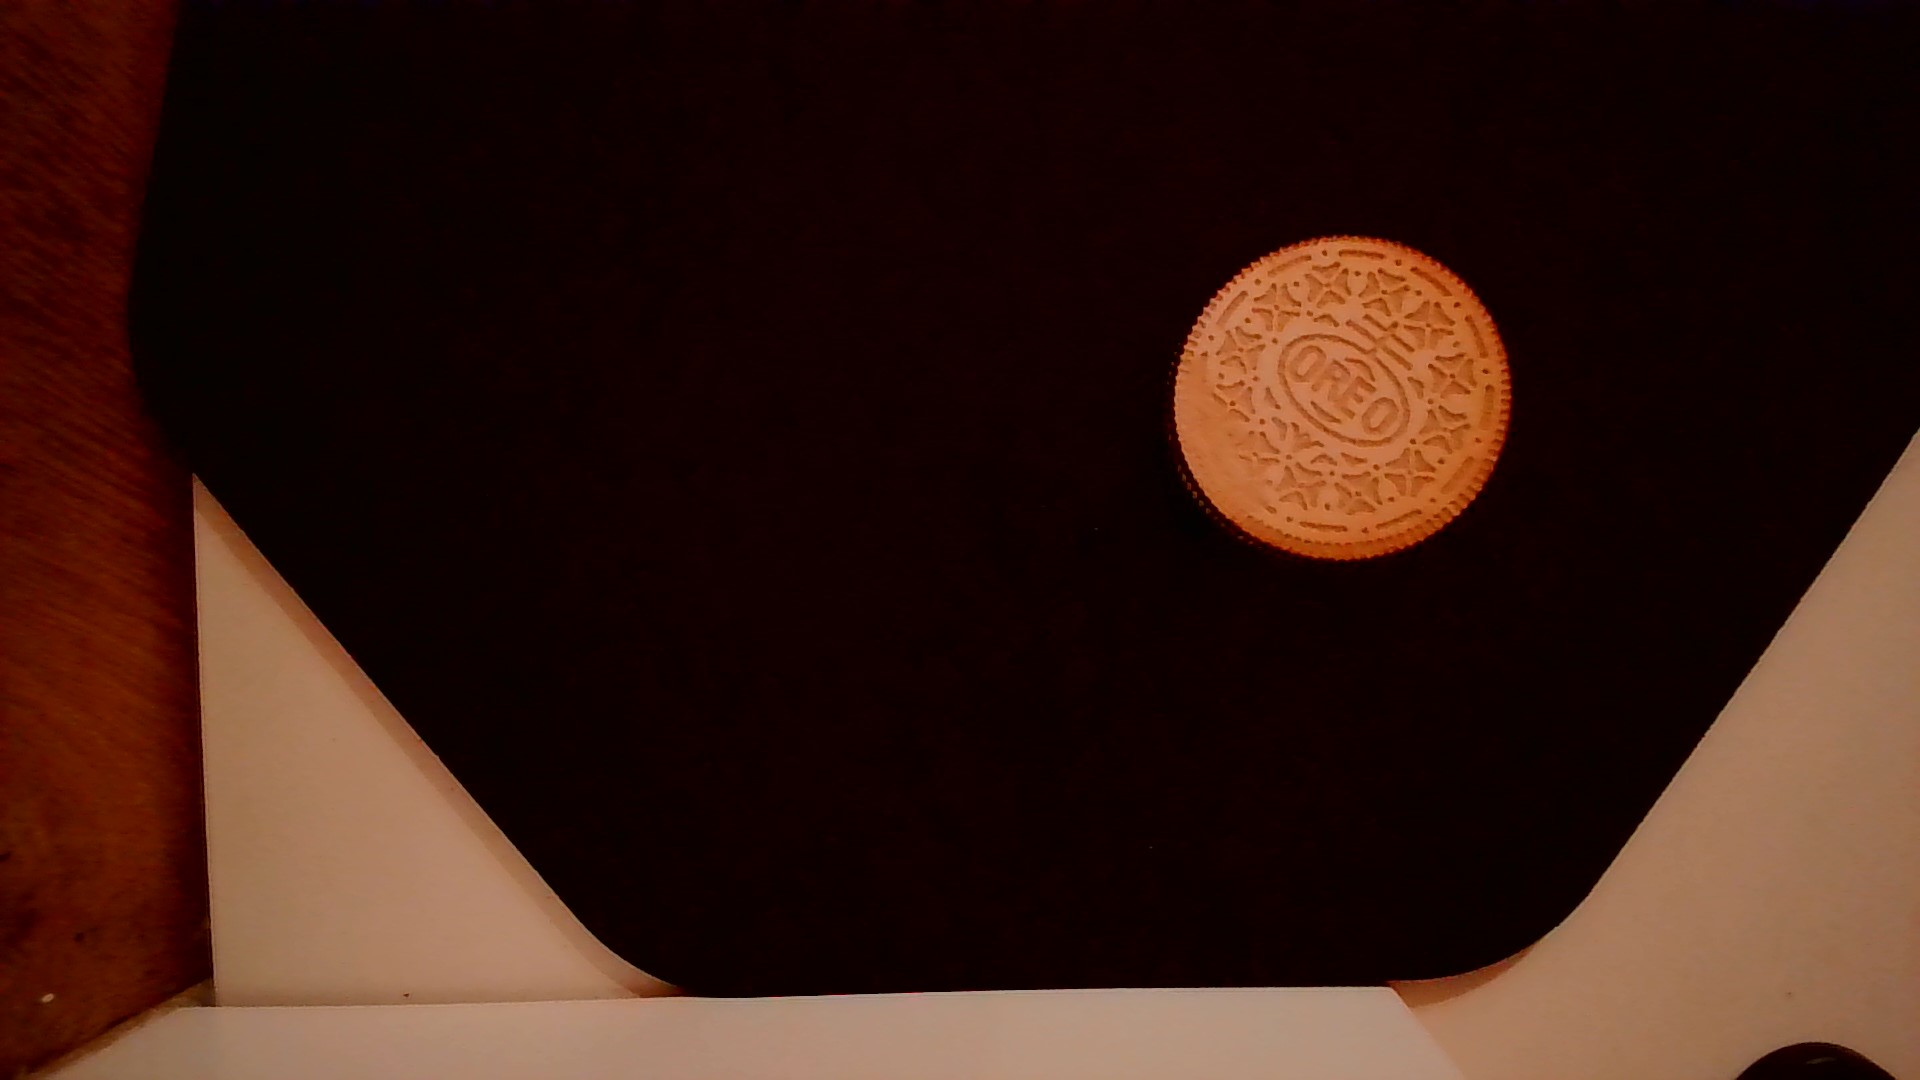Effacé: (1164, 348, 1275, 535)
Oréo: (1163, 229, 1523, 574)
